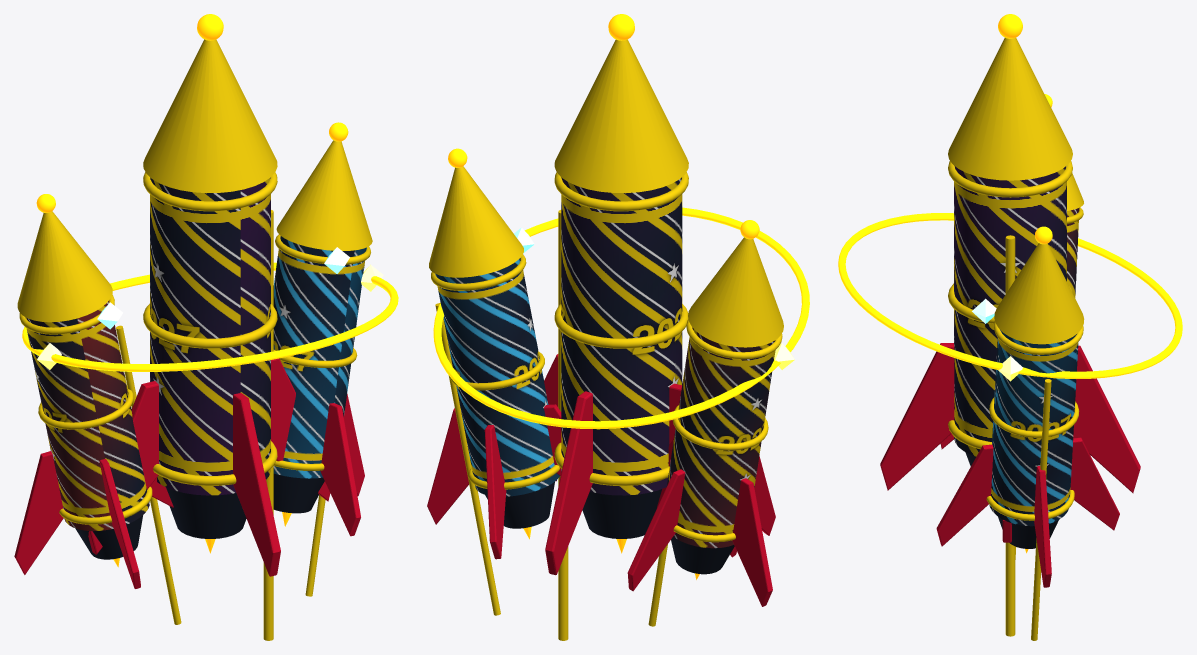
File: firework_rocket.glb
3 views of the same model, side by side, from view 1: azimuth 30°, elevation 25°; view 2: azimuth 150°, elevation 25°; view 3: azimuth 270°, elevation 25° (orthographic). The views are drawn at different scales.
Visible parts, largest first — view 1: FireworkCelebration2027; view 2: FireworkCelebration2027; view 3: FireworkCelebration2027.
Part boxes in pixels (x1,y1,x2,y2): FireworkCelebration2027: (14,14,398,640); FireworkCelebration2027: (427,14,809,640); FireworkCelebration2027: (838,14,1182,640).
Bounding box in the file's own units: 1.19 × 2.09 × 1.1.
24 materials, 3 textured.
